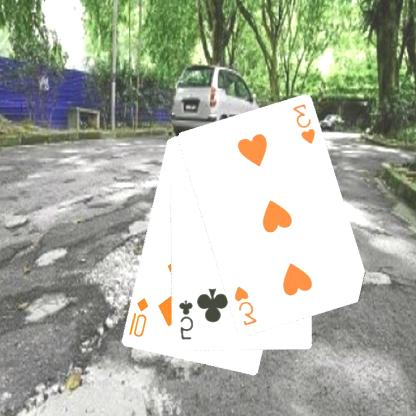10D: (127, 295, 151, 339)
3H: (233, 283, 260, 328), (291, 102, 318, 146)
5C: (178, 298, 196, 342)
